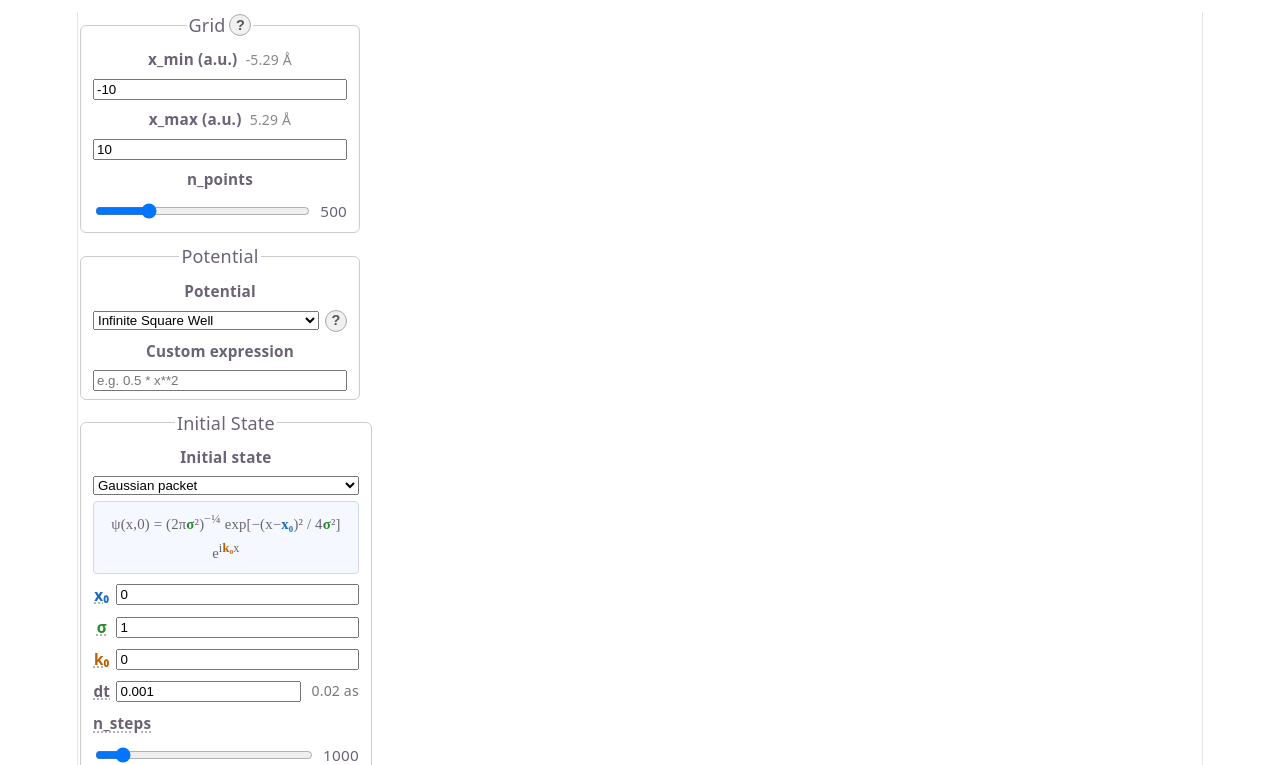
it: spec17 ControlPanel: superposition mode › decreasing n_super_states removes coefficient inputs
Select "Superposition of eigenstates" in the dropdown labelled "Initial state" at (226, 485), box [93, 476, 359, 495]
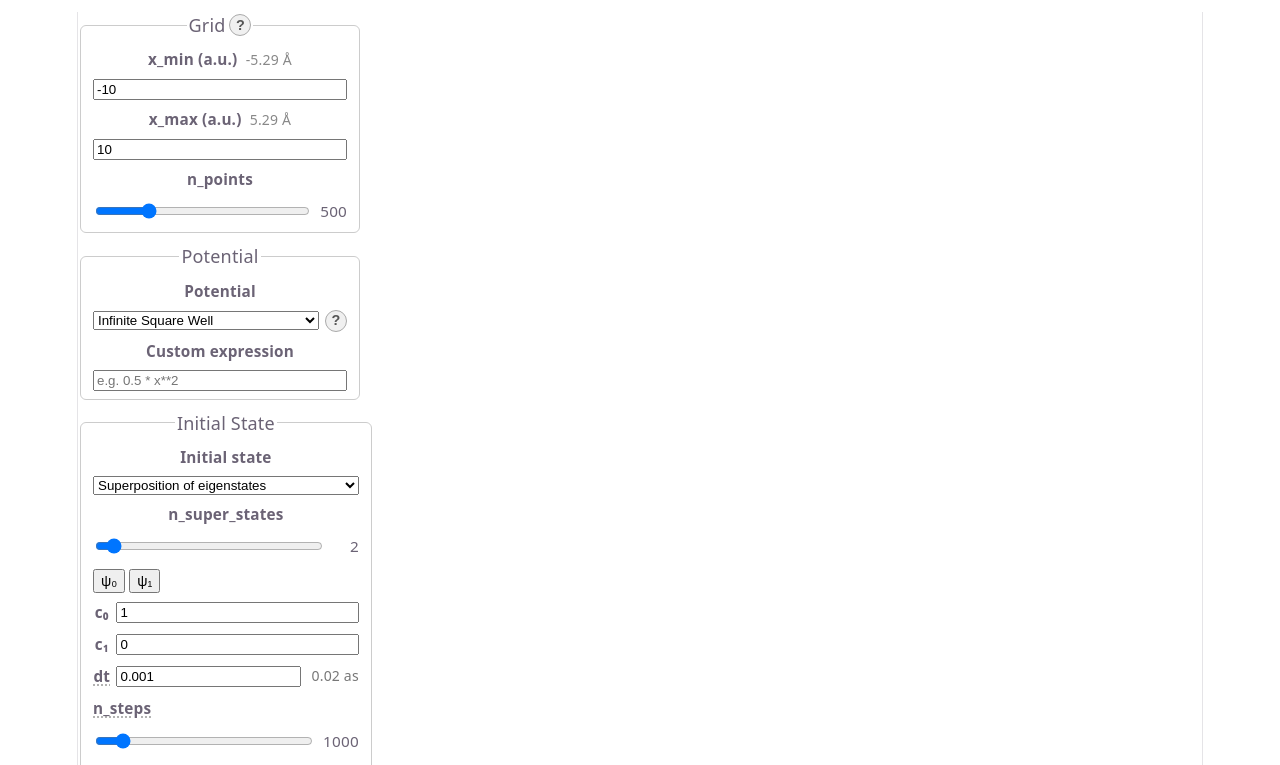
Set the slider labelled "n_super_states" to "1" at (103, 546), box [95, 538, 323, 554]
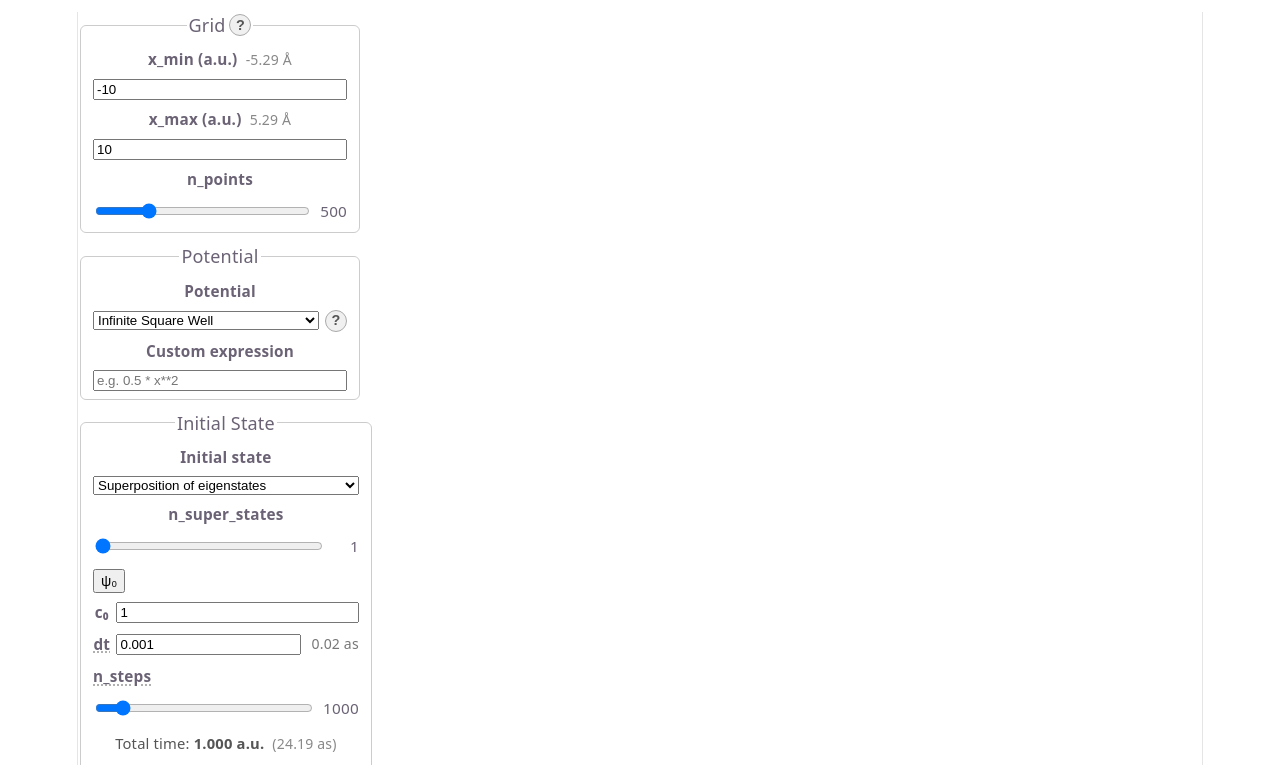
Now the number field labelled "c₀" is shown, box [116, 602, 359, 623]
Now the label labelled "c₁" is gone
